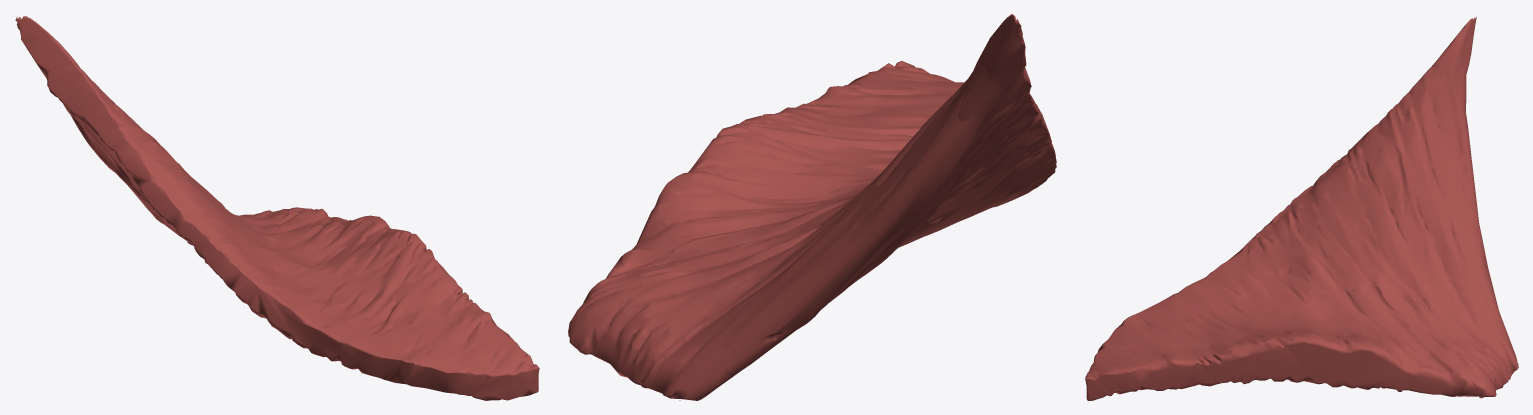
Rendered from FMA46321.glb.
3 views of the same model, side by side, from view 1: azimuth 30°, elevation 25°; view 2: azimuth 150°, elevation 25°; view 3: azimuth 270°, elevation 25° (orthographic). The views are drawn at different scales.
Parts seen in each view (by area): view 1: FMA46321; view 2: FMA46321; view 3: FMA46321.
Boxes of the visible parts, x1,y1,x2,y2 form: FMA46321: (15, 16, 539, 400); FMA46321: (568, 14, 1056, 400); FMA46321: (1085, 17, 1518, 400).
Bounding box in the file's own units: 0.0262 × 0.0245 × 0.0367.
